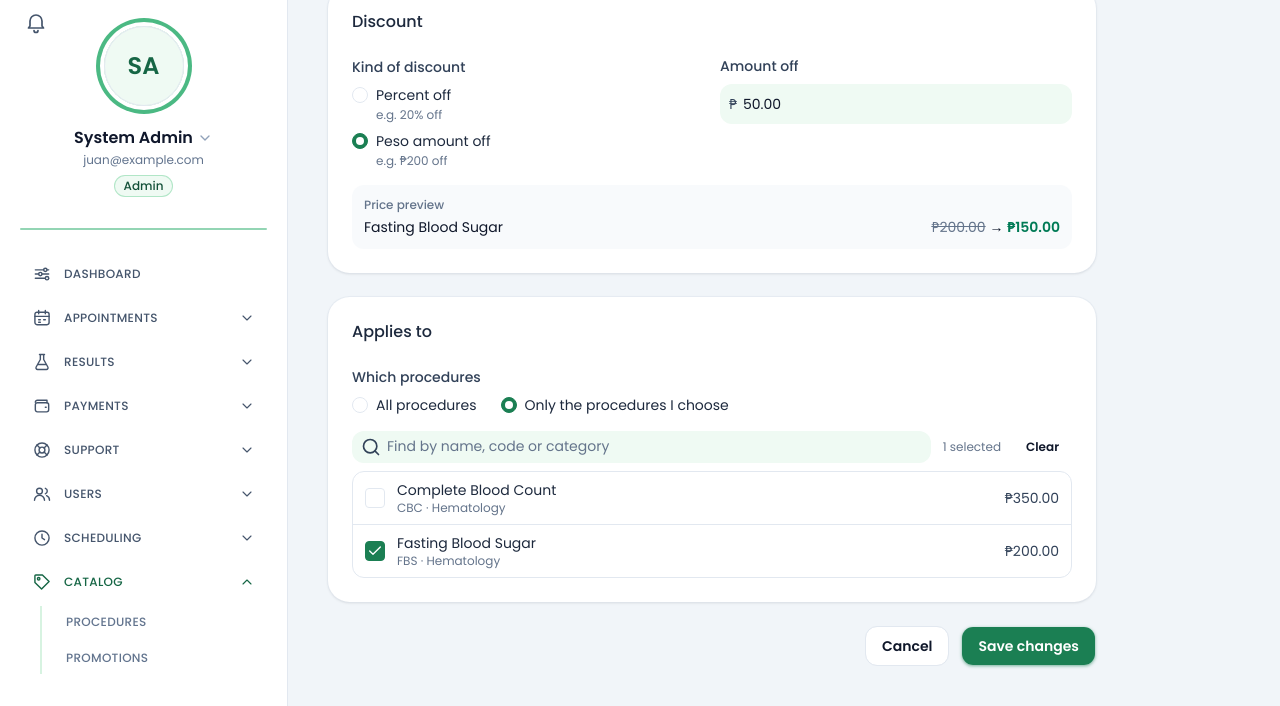
Test case: PromotionEditorPage › loads a peso promotion and saves its changes
The image size is (1280, 706).
(page scrolled)
Expected: the field labelled "Amount off" holds "50.00", x1=737 y1=85 x2=1071 y2=123
Expected: the checkbox named "Fasting Blood Sugar" next to "FBS" is checked, x1=365 y1=541 x2=385 y2=561
Click the checkbox named "Complete Blood Count" next to "Complete Blood Count". click: [375, 498]
box: x1=365 y1=488 x2=385 y2=508
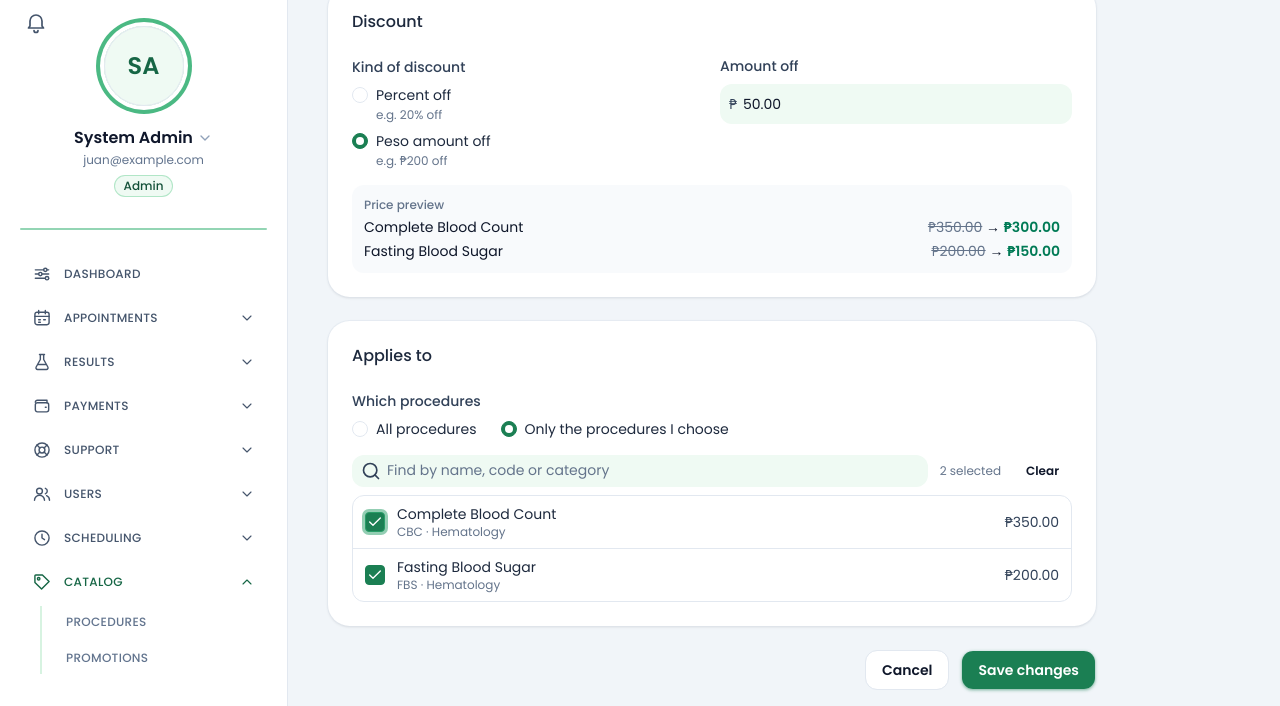
Clear the field labelled "Amount off". click: [904, 104]
box: x1=737 y1=85 x2=1071 y2=123
(page scrolled)
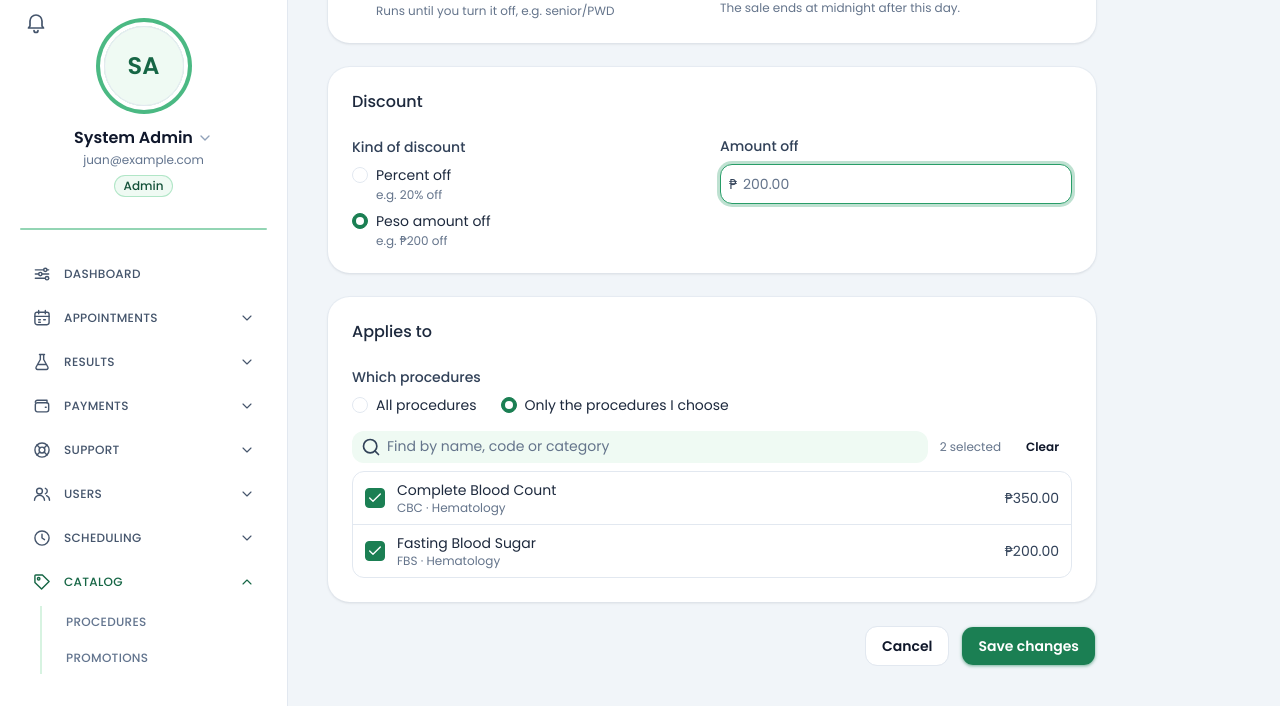
Type "75" into the field labelled "Amount off". click: [904, 184]
box: x1=737 y1=165 x2=1071 y2=203
(page scrolled)
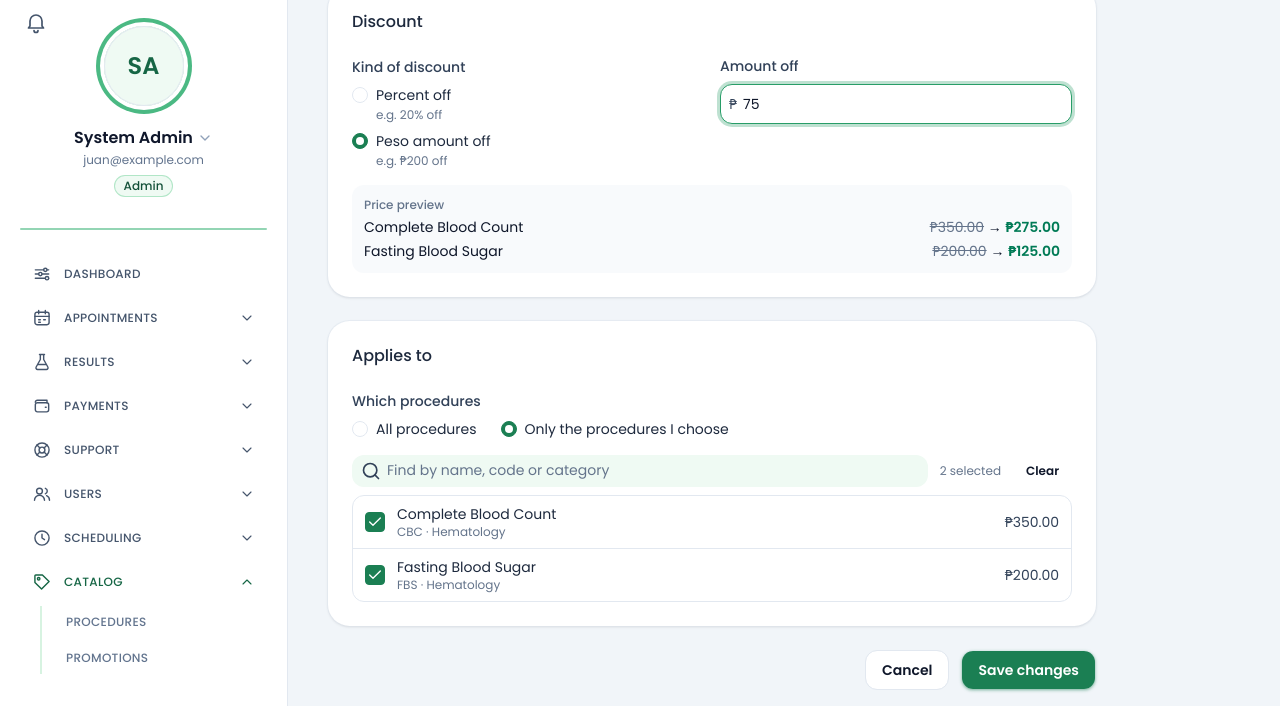
Click the button "Save changes". click: [1029, 670]
box: x1=961 y1=650 x2=1096 y2=690
(page scrolled)
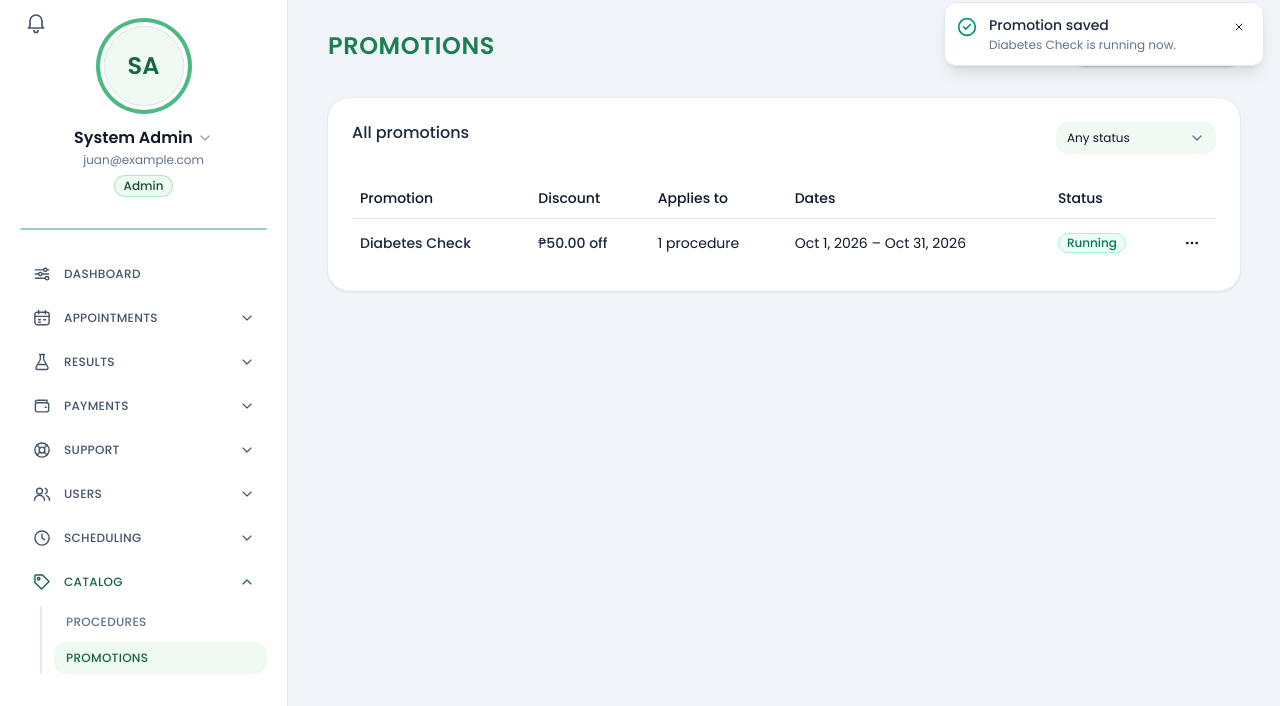
Now the text "Promotion saved" is shown, box x1=989 y1=15 x2=1109 y2=35
